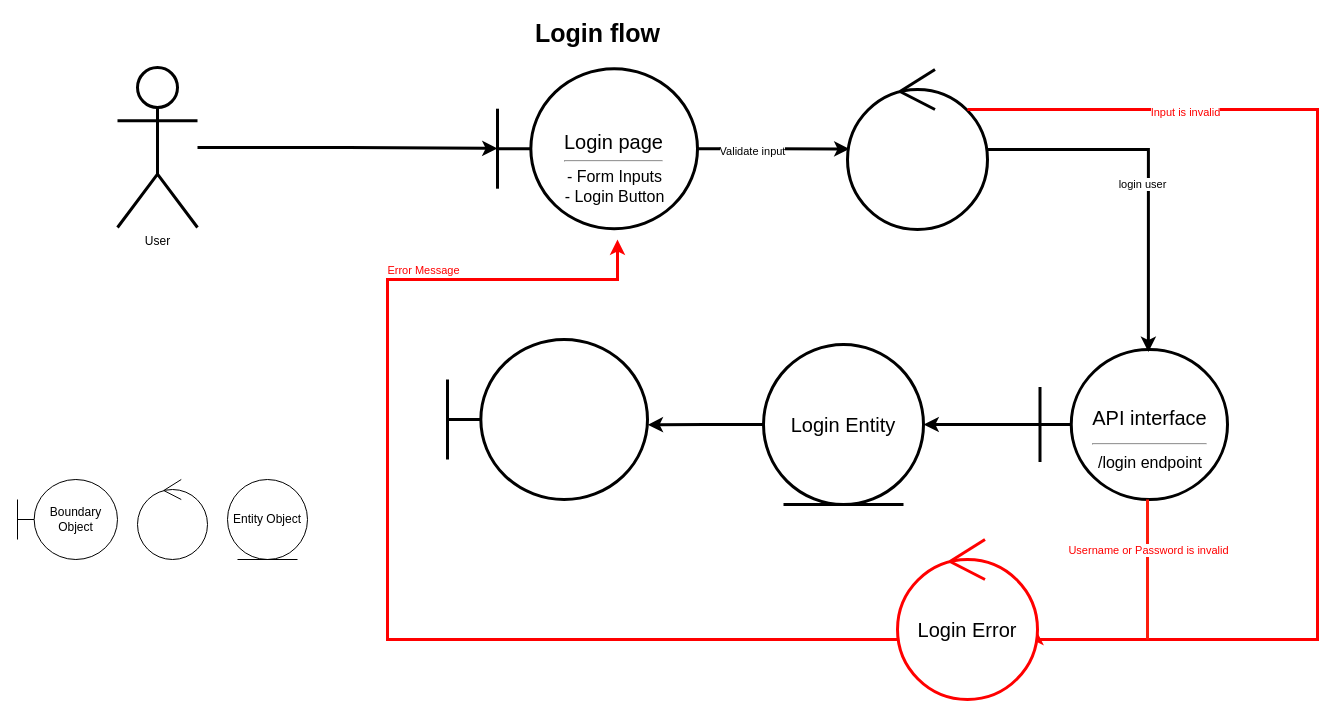
This 1344x718 diagram has some shape labels left out. Each missing label, with the centre of its shape:
Control Object: pixel 172 519
Editor page: pixel 547 419
Perform Login: pixel 917 149
